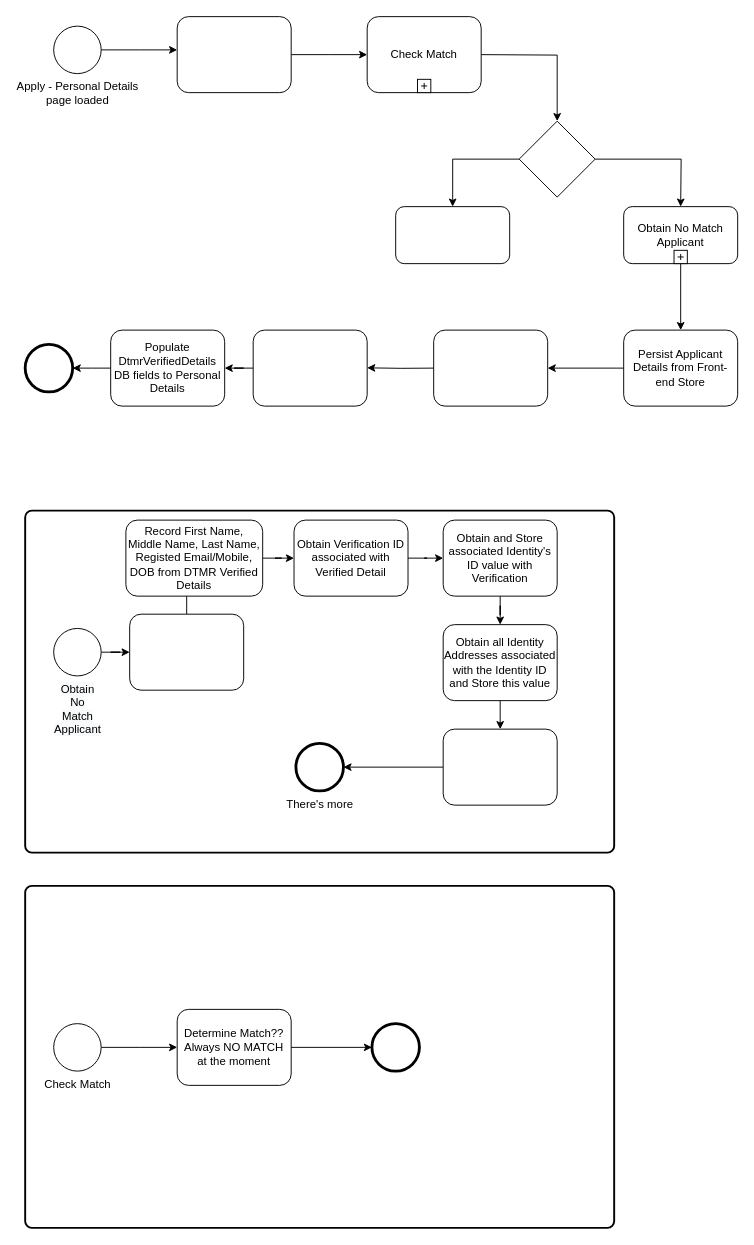
The diagram is 754 pixels wide and 1245 high, and some of its shapes have lost their labels. The shapes that lost their labels are listed below. From the top down, each one's box as (x1, y1, x2, y2) in pixels, then its label:
(176, 16, 291, 93): Load JWT Token Into Header
(395, 206, 510, 264): Full Match ??
(252, 329, 367, 406): Populate ApplicantTemp DB fields to Personal Details
(433, 329, 548, 406): Set Applicant Details from Store to Applicant Personal Details Apply page
(129, 613, 244, 690): Obtain DTMR Verified Detail ID from Identity
(442, 728, 557, 805): Obtain ApplicationTemp info via Identity ID
